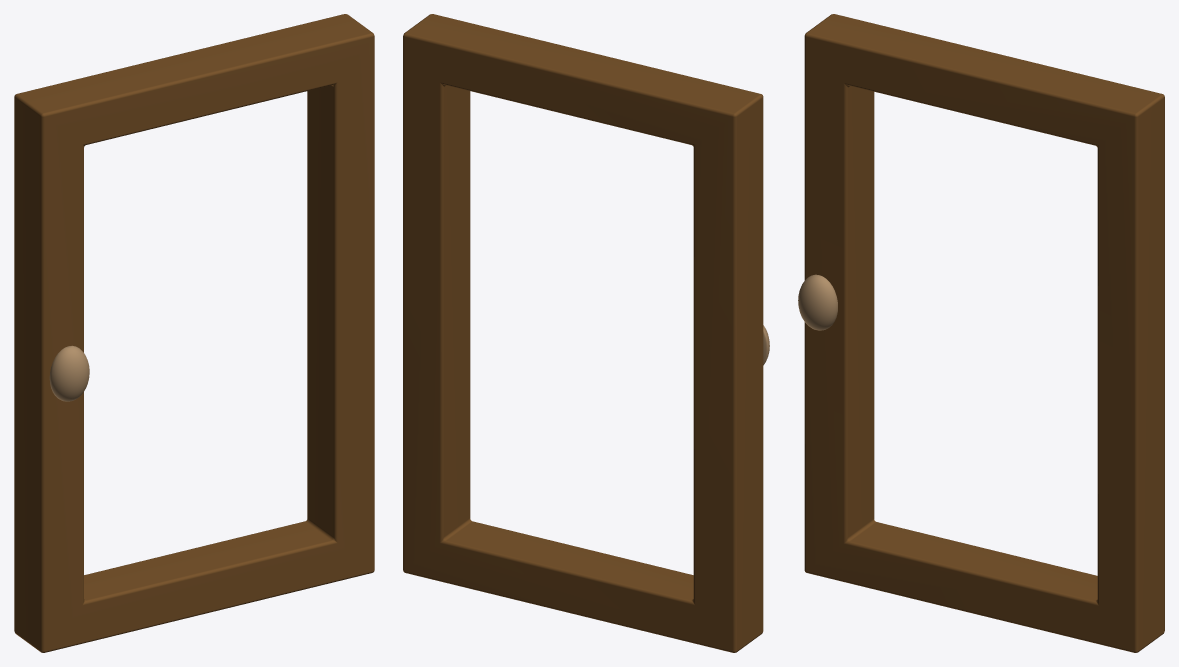
File: SM_Shelf_Wood_01_Door_R.fbx
3 renders of one model, left to right at view 1: azimuth 30°, elevation 25°; view 2: azimuth 150°, elevation 25°; view 3: azimuth 330°, elevation 25°, orthographic.
Parts seen in each view (by area): view 1: Cube.013, Sphere.001; view 2: Cube.013; view 3: Cube.013, Sphere.001.
Boxes of the visible parts, x1,y1,x2,y2 form: Cube.013: (14,14,374,652); Sphere.001: (49,345,89,401); Cube.013: (403,14,763,652); Cube.013: (804,14,1164,652); Sphere.001: (798,274,837,330).
Bounding box in the file's own units: 59.67 × 92.24 × 13.41.
